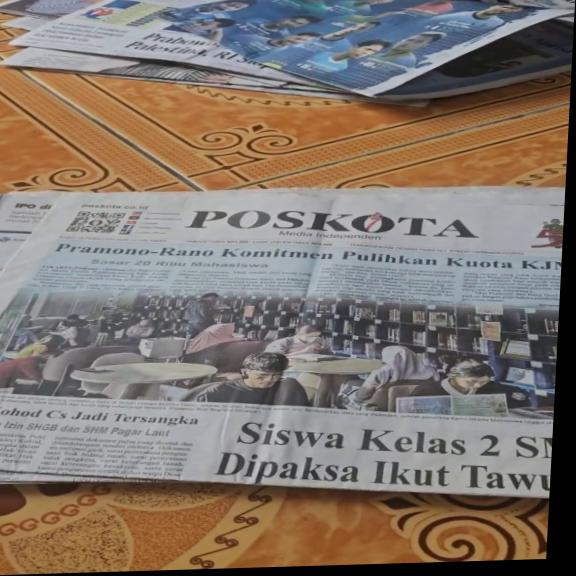Kertas: (0, 191, 553, 509), (10, 0, 556, 110)
